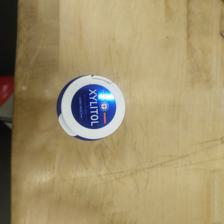Xylitol_blue: (54, 73, 125, 142)
